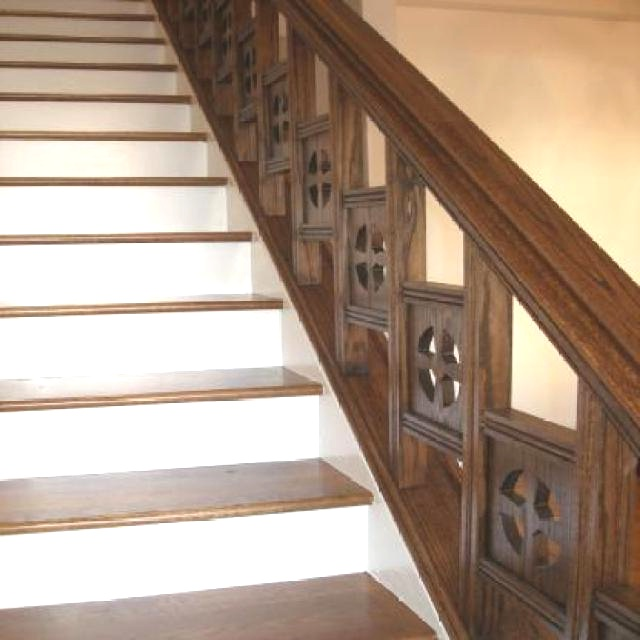stair: (0, 0, 453, 640)
